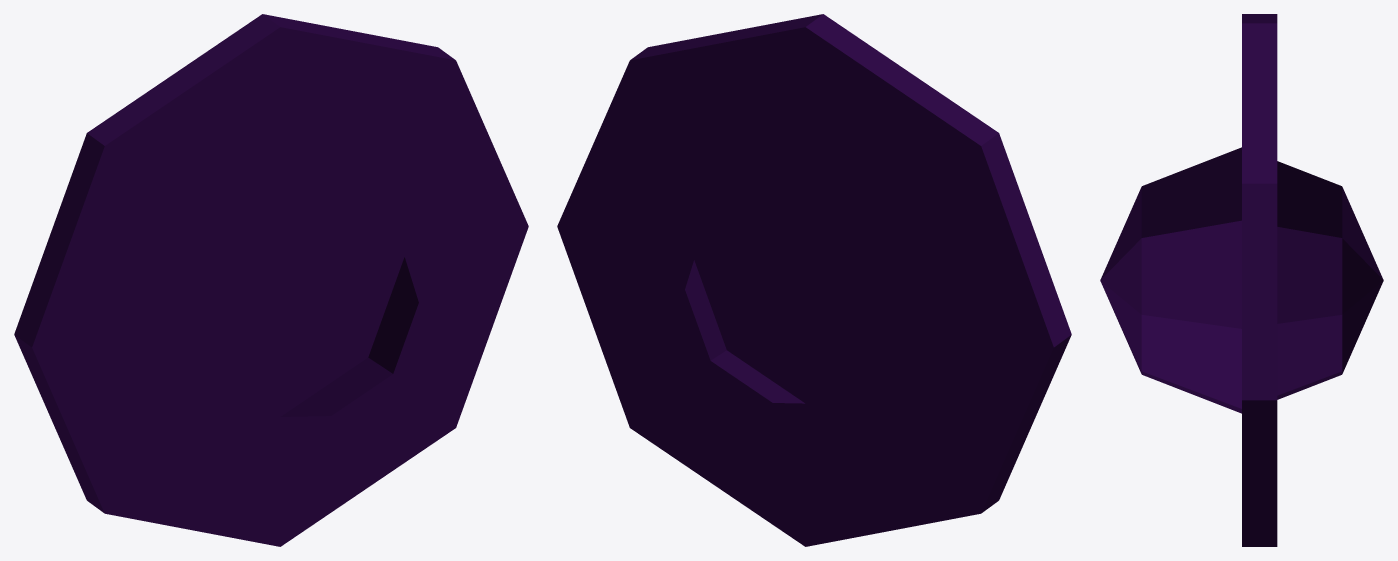
The model's file is shadow_lotus.obj.
3 renders of one model, left to right at view 1: azimuth 30°, elevation 25°; view 2: azimuth 150°, elevation 25°; view 3: azimuth 270°, elevation 25°, orthographic.
Bounding box in the file's own units: 1.6 × 1.6 × 0.8.
